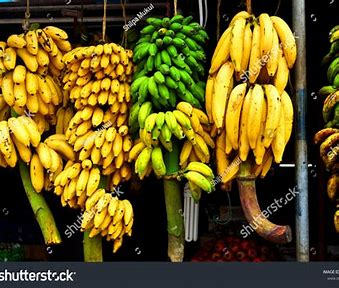inorganic: (208, 8, 313, 261), (60, 40, 143, 254), (126, 9, 216, 202), (3, 25, 71, 246)
